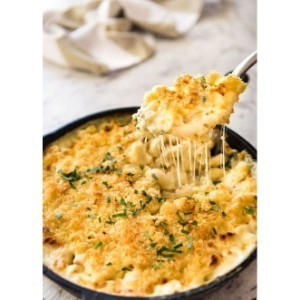cheese_brain food: (97, 156, 213, 232)
